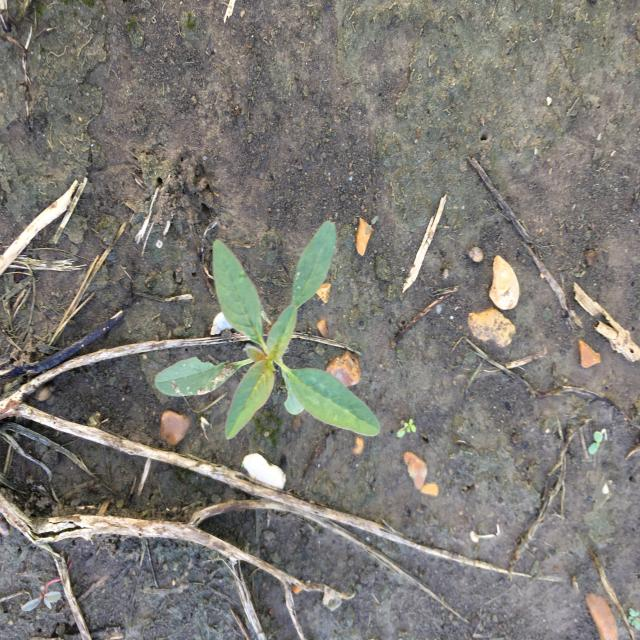Waterhemp: (153, 218, 382, 442)
